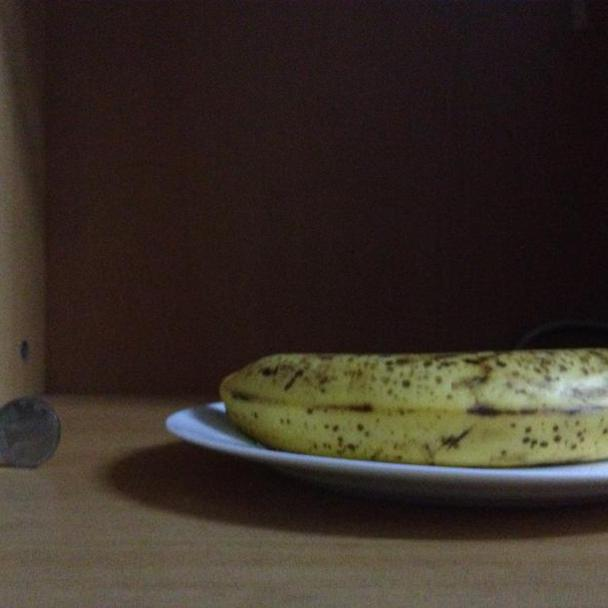banana: (220, 346, 608, 462)
